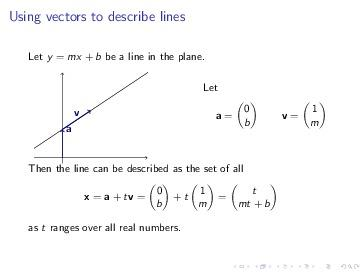paragraph: (17, 40, 333, 241)
title: (5, 6, 191, 30)
